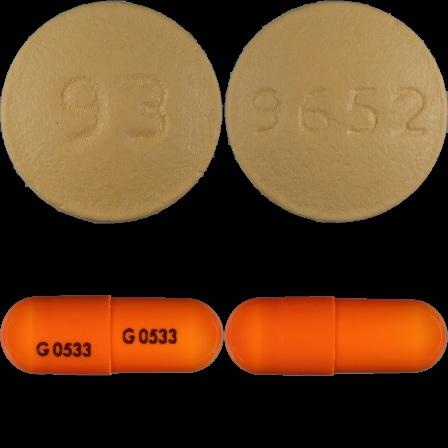0093-9652: (0, 0, 224, 224)
